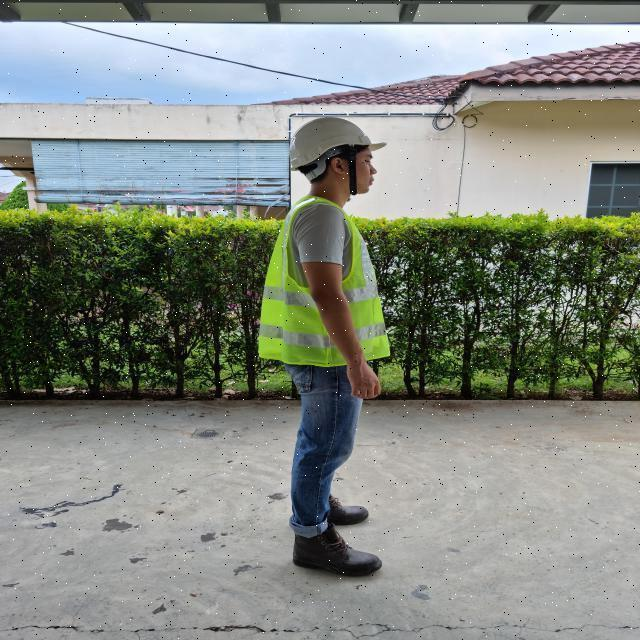Hard_hat: (285, 112, 387, 171)
Person: (255, 116, 392, 581)
Vest: (256, 199, 371, 371)
